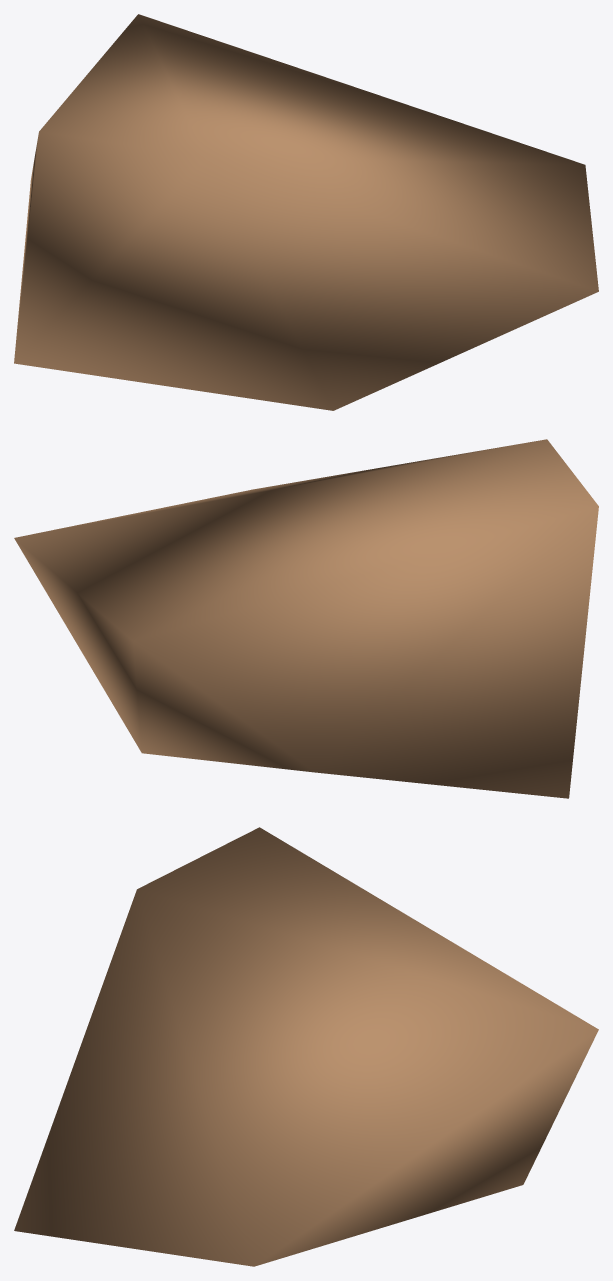
Rendered from MSH_Rock_Single_33.FBX.
3 views of the same model, one above another, from view 1: azimuth 30°, elevation 25°; view 2: azimuth 150°, elevation 25°; view 3: azimuth 270°, elevation 25° (orthographic). The views are drawn at different scales.
Visible parts, largest first — view 1: MESH_ROCK_09; view 2: MESH_ROCK_09; view 3: MESH_ROCK_09.
Part boxes in pixels (box(x1,y1,x2,y2)): MESH_ROCK_09: box(14, 14, 598, 410); MESH_ROCK_09: box(14, 439, 598, 798); MESH_ROCK_09: box(14, 827, 598, 1266).
Size of the model in its own units: 6.05 by 2.87 by 5.51.
